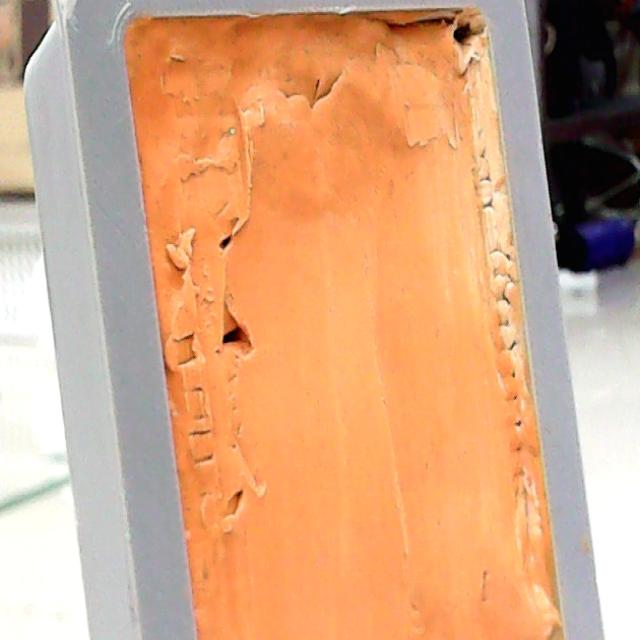block: (22, 0, 610, 640)
